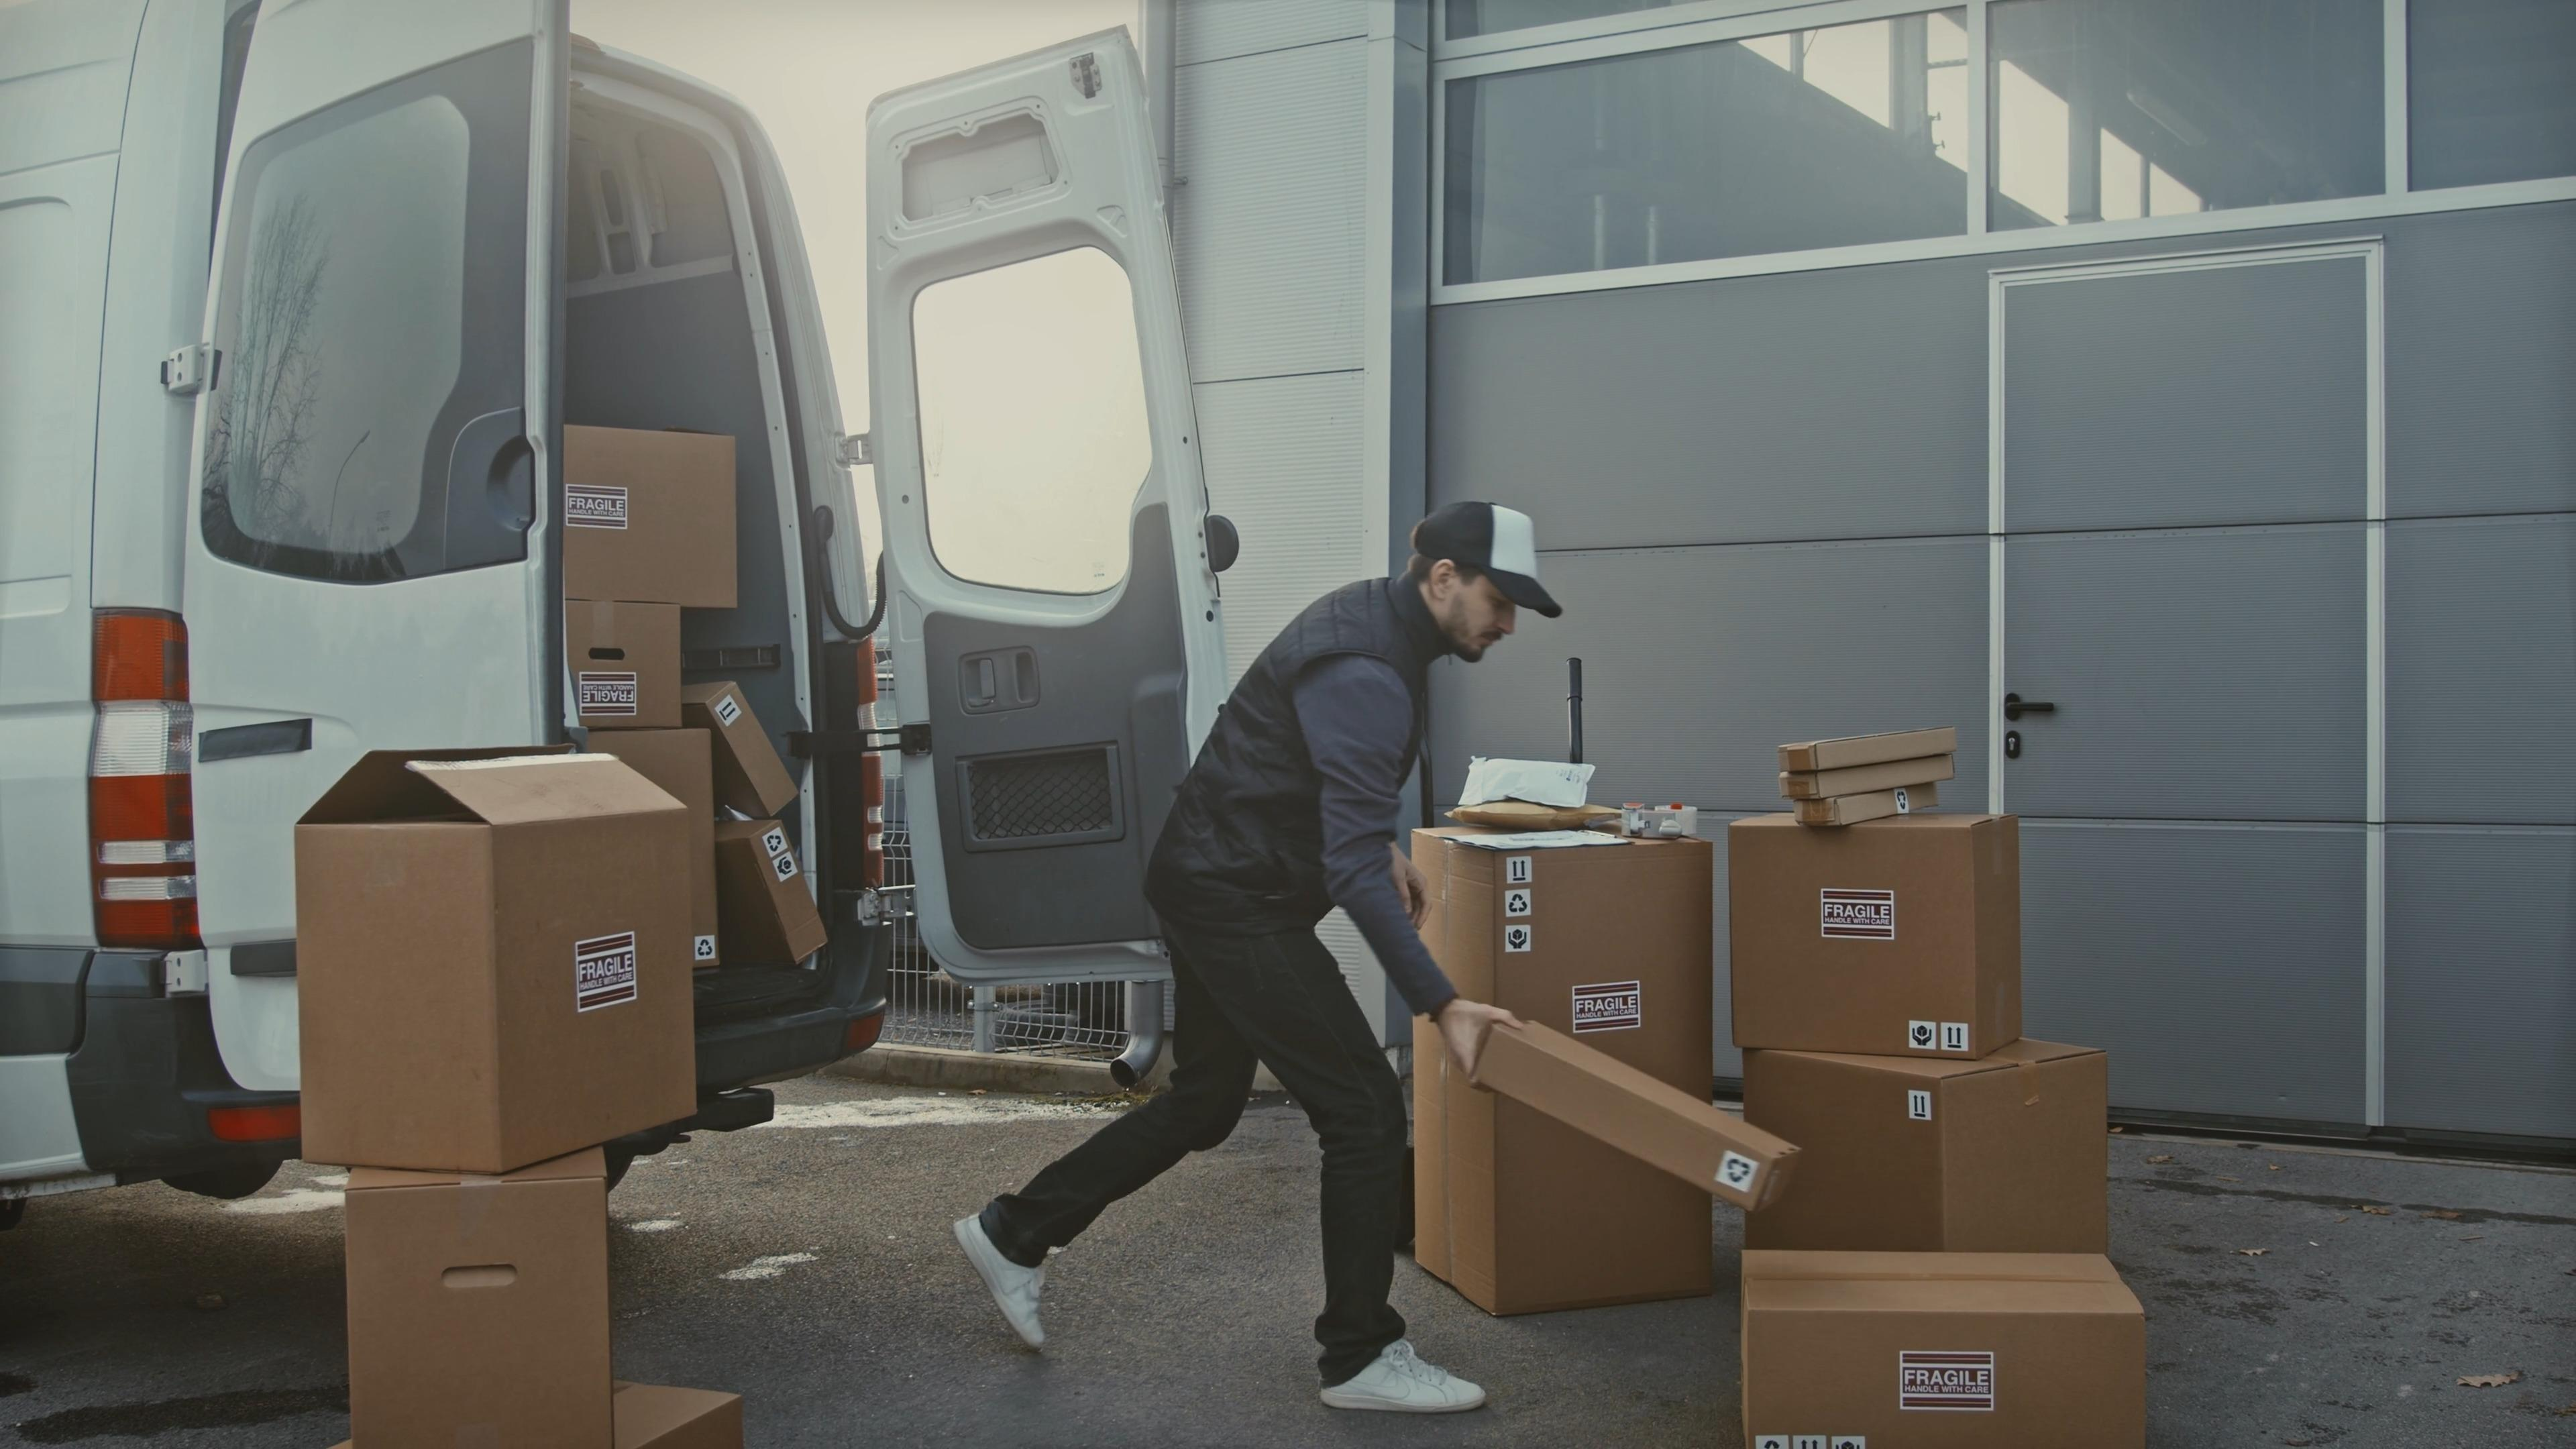-: (288, 741, 697, 1173), (1414, 816, 1716, 1320), (1737, 1246, 2137, 1449), (343, 1164, 621, 1447), (1729, 800, 2028, 1054), (1752, 1058, 2102, 1270), (1445, 1003, 1803, 1208), (557, 423, 724, 598), (568, 605, 688, 722)
